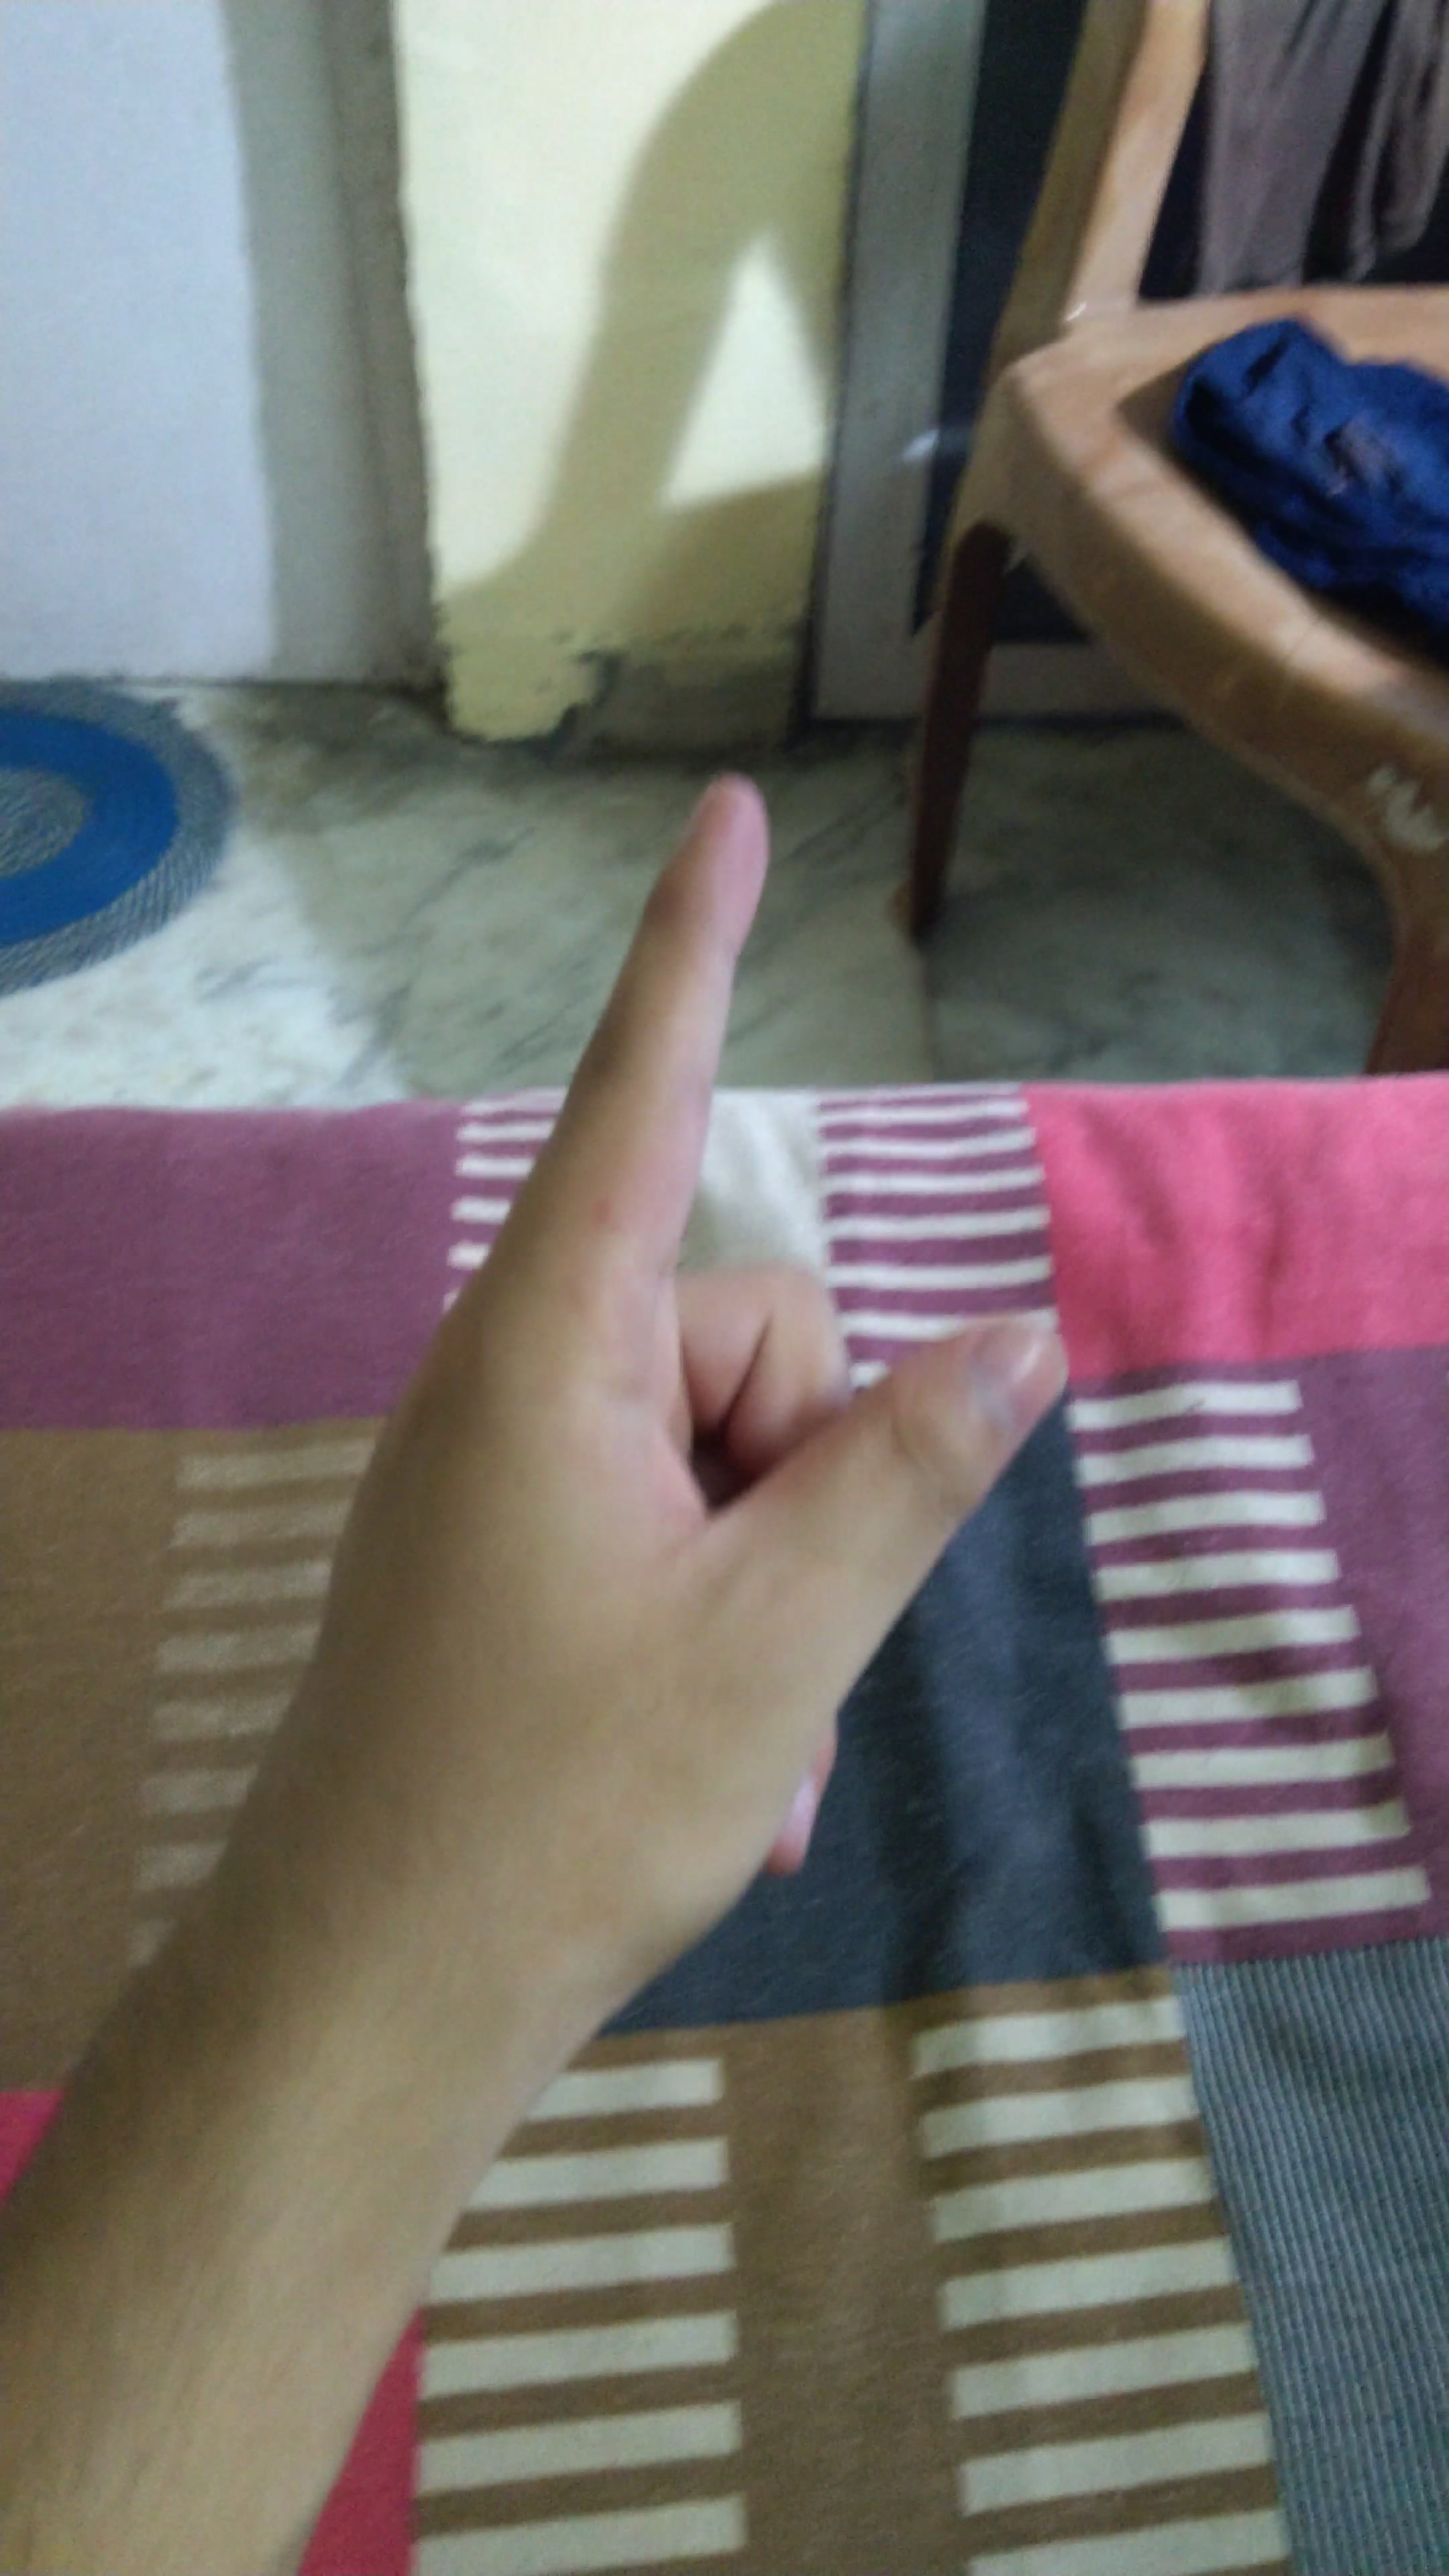hand: (241, 745, 1102, 2031)
